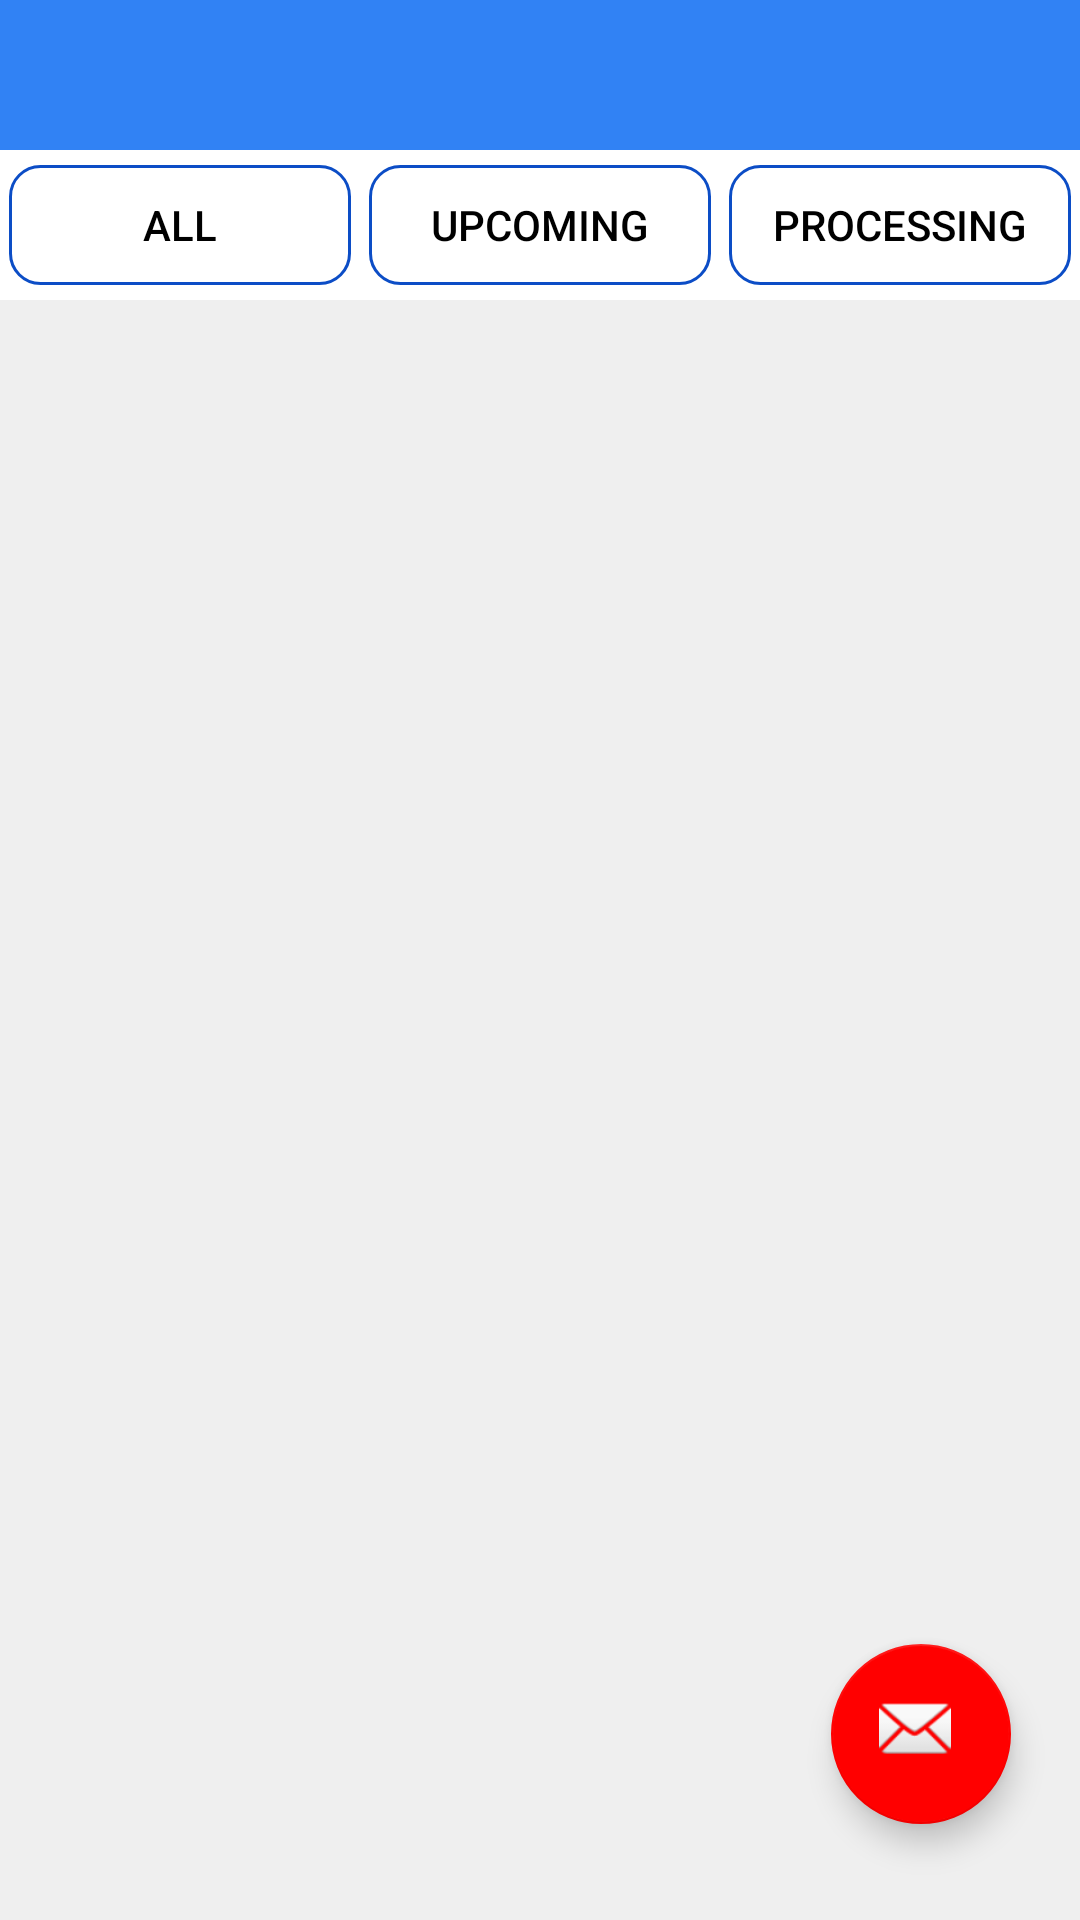

Where to tap for icons on this 1080w x 1920h app screen, as (x,y):
email: (921,1734)
